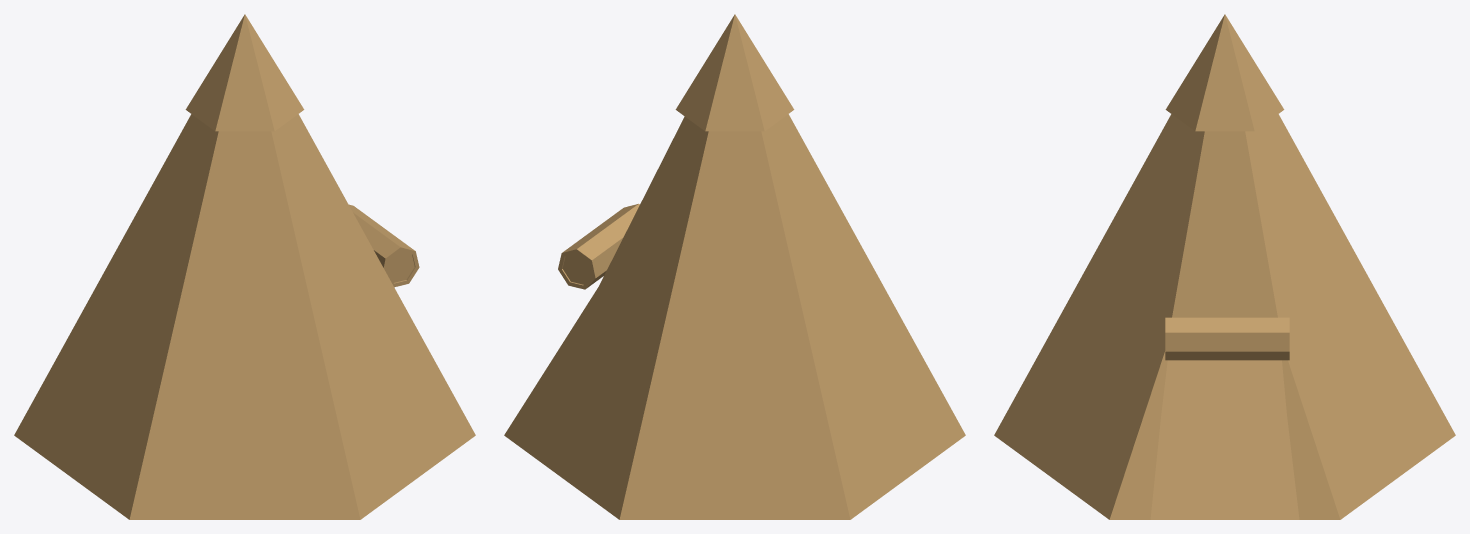
The model's file is Tent.fbx.
3 renders of one model, left to right at view 1: azimuth 30°, elevation 25°; view 2: azimuth 150°, elevation 25°; view 3: azimuth 270°, elevation 25°, orthographic.
Parts seen in each view (by area): view 1: Cube.001; view 2: Cube.001; view 3: Cube.001.
Part boxes in pixels (box(x1,y1,x2,y2)): Cube.001: box(14, 14, 475, 519); Cube.001: box(504, 14, 965, 519); Cube.001: box(994, 14, 1455, 519).
Size of the model in its own units: 235 by 273 by 271.
